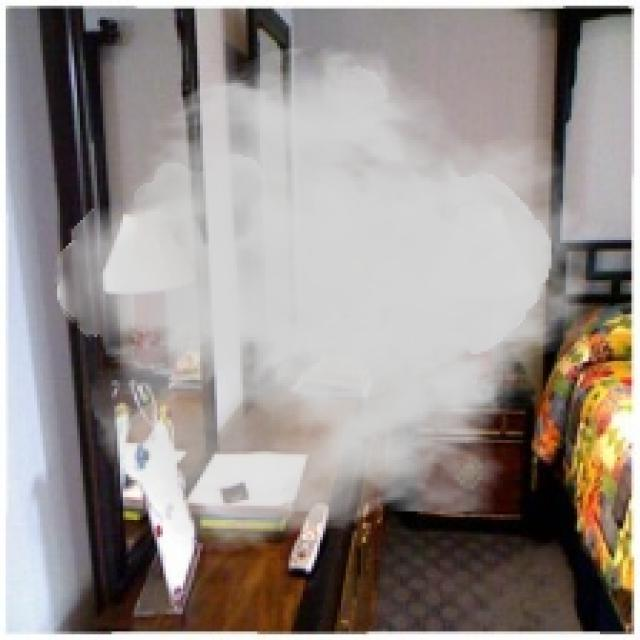smoke: (54, 40, 609, 557)
